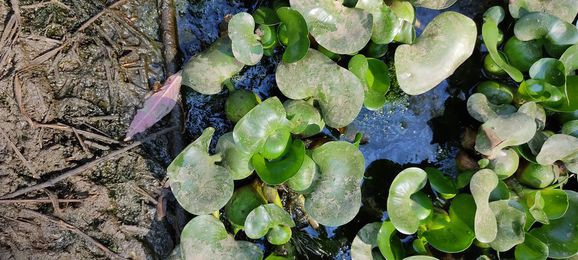water_hyacinth: (166, 0, 577, 258)
